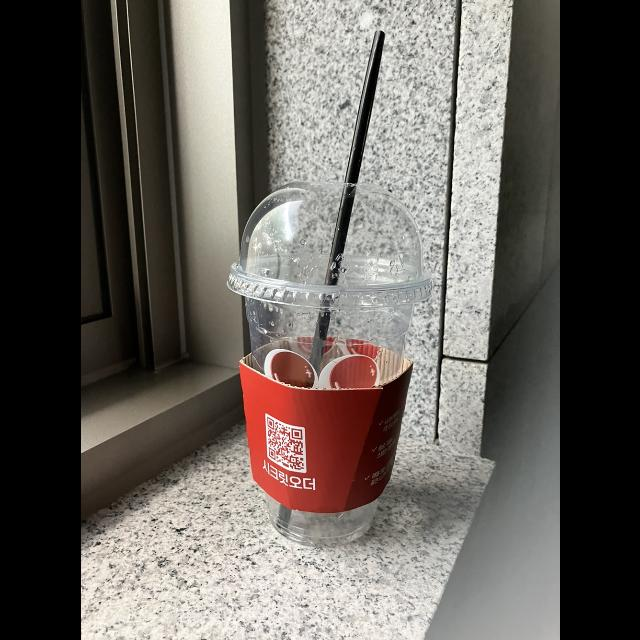plastic_cup: (225, 174, 433, 546)
plastic_cup_lid: (221, 178, 433, 314)
straw: (269, 27, 385, 387)
